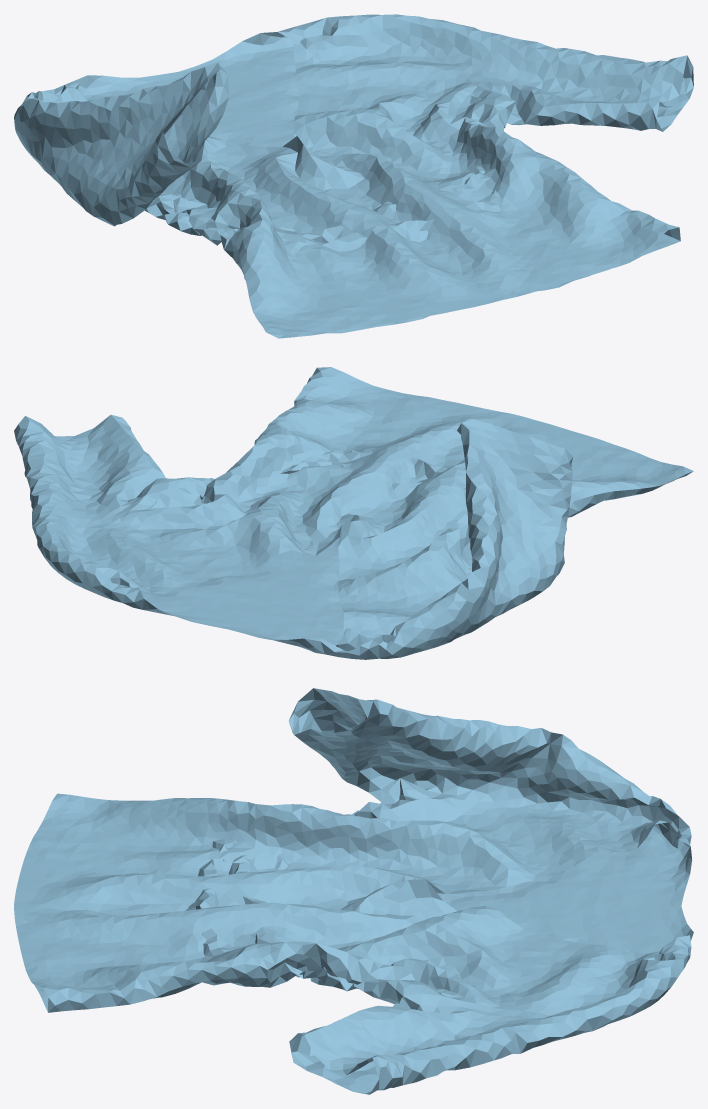
The model's file is frame_13.glb.
The picture shows the model from 3 angles, top to bottom: view 1: azimuth 30°, elevation 25°; view 2: azimuth 150°, elevation 25°; view 3: azimuth 270°, elevation 25°; orthographic projection. The views are drawn at different scales.
Parts seen in each view (by area): view 1: frame_13.obj; view 2: frame_13.obj; view 3: frame_13.obj.
Part boxes in pixels (x1,y1,x2,y2): frame_13.obj: [14, 14, 693, 338]; frame_13.obj: [14, 367, 693, 659]; frame_13.obj: [14, 688, 693, 1094].
Size of the model in its own units: 1.57 by 0.3767 by 1.48.
